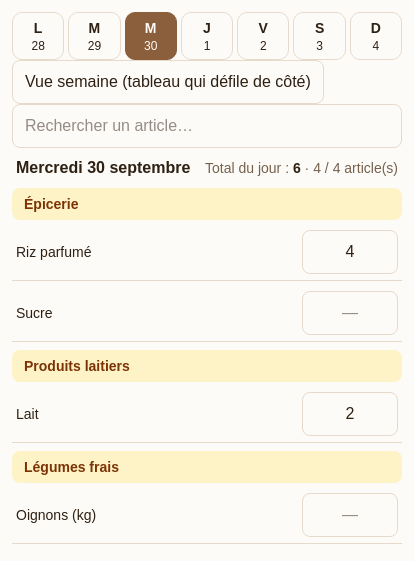
Scenario: Commande sur téléphone — la liste du jour › changer de jour change les valeurs et les libellés des cases
The image size is (414, 561).
Click the button "M 29" at (94, 36), box top-left (68, 12), bottom-right (121, 60)
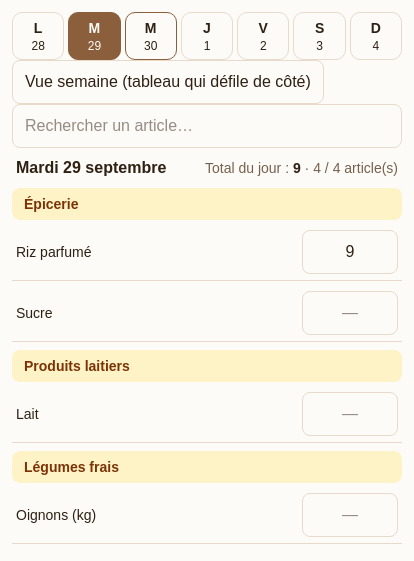
Check: the field named "Riz parfumé — Mar 29" is shown, box top-left (302, 230), bottom-right (398, 274)
Check: the heading "mardi 29 septembre" is shown, box top-left (16, 156), bottom-right (166, 180)
